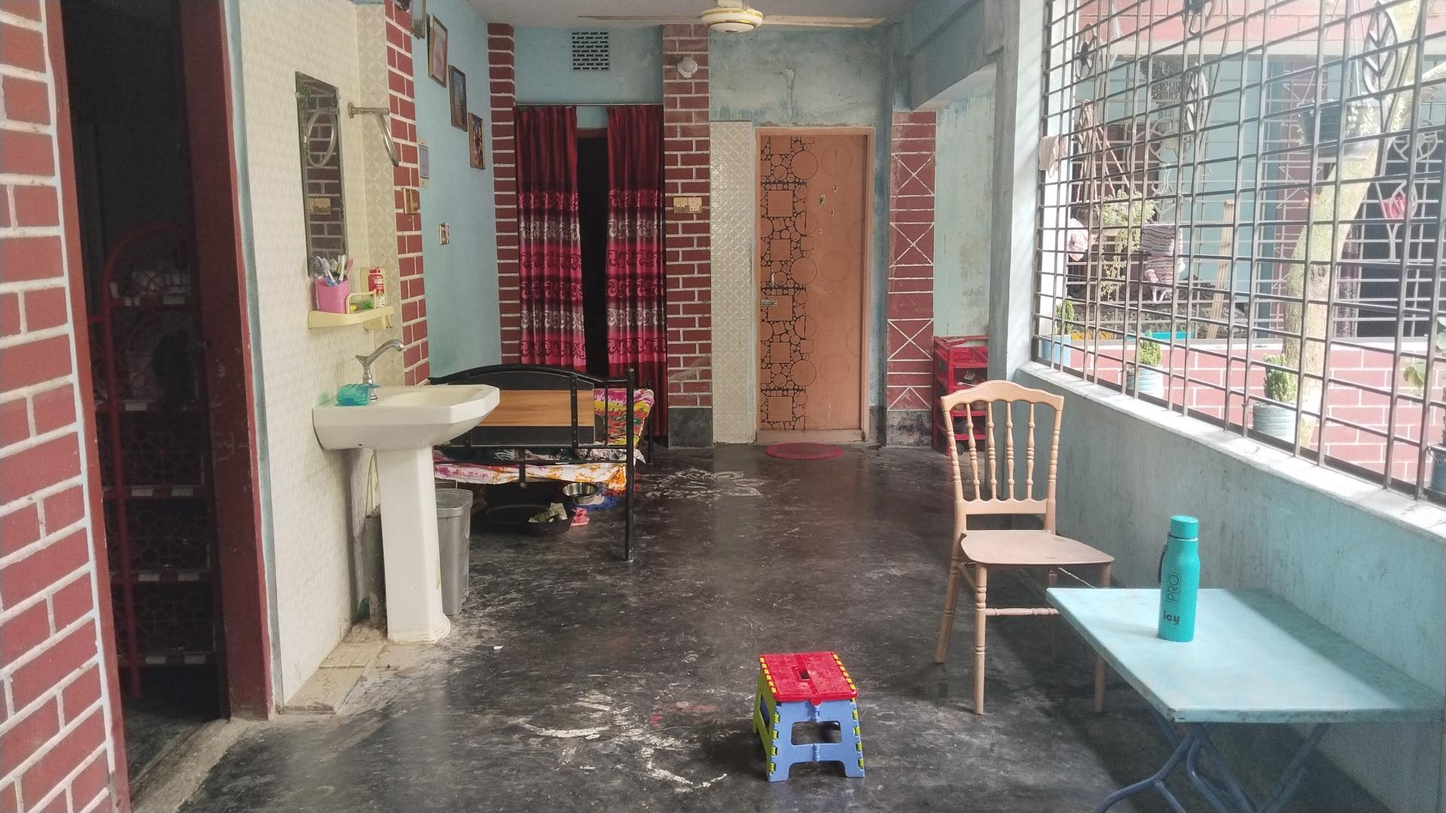Bottle: (1163, 518, 1198, 635)
Chair: (939, 384, 1112, 714)
Door: (758, 130, 862, 440)
Stool: (760, 653, 871, 781)
Table: (1047, 591, 1439, 813)
